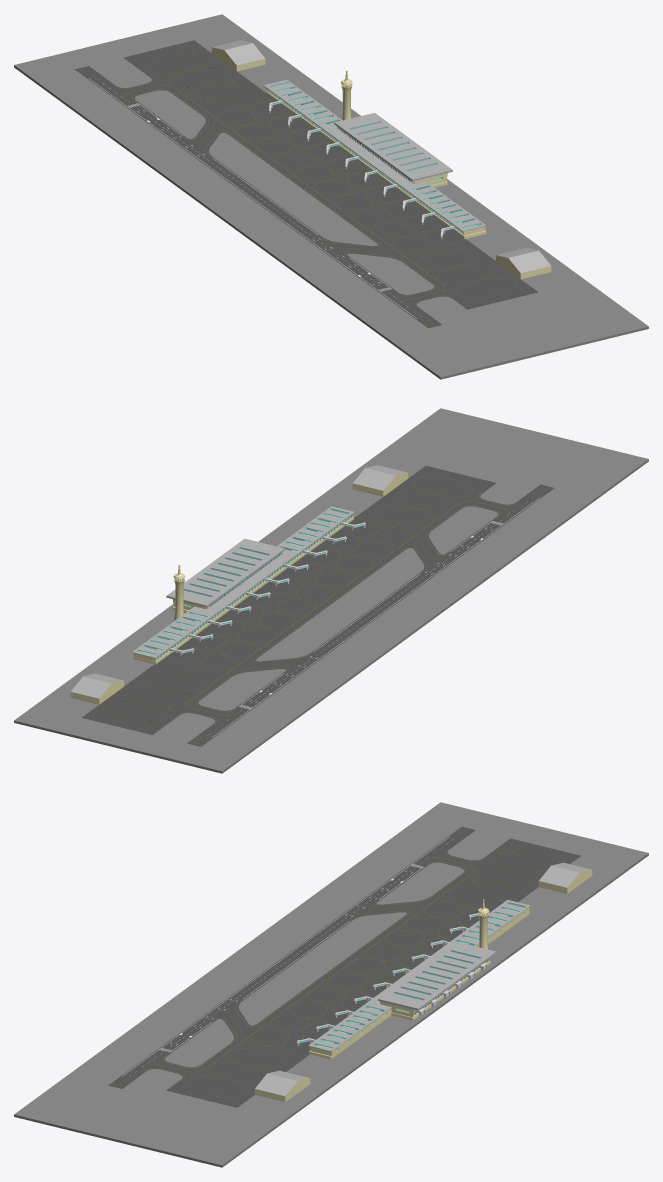
The model's file is airport.glb.
3 renders of one model, top to bottom at view 1: azimuth 30°, elevation 25°; view 2: azimuth 150°, elevation 25°; view 3: azimuth 330°, elevation 25°, orthographic.
Parts seen in each view (by area): view 1: ground_1, runway_43, ceiliing2_20, ceiling1_19, base_21, warehouse1_3, warehouse2_4, bridge_7, sidesign2_34; view 2: ground_1, runway_43, ceiliing2_20, ceiling1_19, base_21, warehouse1_3, warehouse2_4, bridge_7, sidesign2_34; view 3: ground_1, runway_43, ceiling1_19, ceiliing2_20, warehouse1_3, warehouse2_4, base_21, bridge_7, sidesign2_34.
Part boxes in pixels (x1,y1,x2,y2): ground_1: (14,14,648,379); runway_43: (75,40,537,328); ceiliing2_20: (263,79,486,231); ceiling1_19: (334,113,452,181); base_21: (266,88,486,238); warehouse1_3: (496,247,551,279); warehouse2_4: (211,40,265,71); bridge_7: (269,100,454,238); sidesign2_34: (89,78,416,318); ground_1: (14,408,648,773); runway_43: (82,466,554,746); ceiliing2_20: (132,506,354,658); ceiling1_19: (166,538,284,607); base_21: (133,515,353,664); warehouse1_3: (352,465,408,496); warehouse2_4: (70,673,124,704); bridge_7: (170,522,365,655); sidesign2_34: (213,497,540,736); ground_1: (14,802,648,1167); runway_43: (108,826,580,1107); ceiling1_19: (378,941,496,1010); ceiliing2_20: (308,900,530,1051); warehouse1_3: (254,1070,310,1102); warehouse2_4: (538,862,592,893); base_21: (309,908,529,1059); bridge_7: (297,913,478,1045); sidesign2_34: (122,836,449,1076).
Size of the model in its own units: 12.46 by 3.25 by 44.22.
